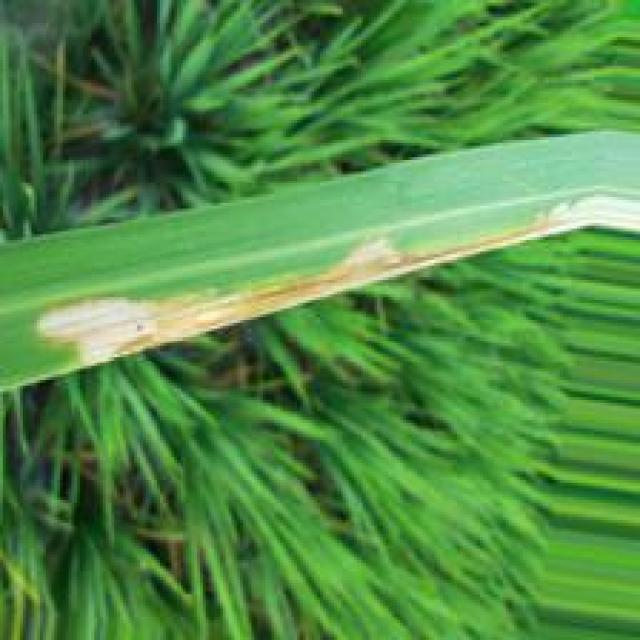Bacterial_Leaf_Blight: (24, 194, 640, 366)
